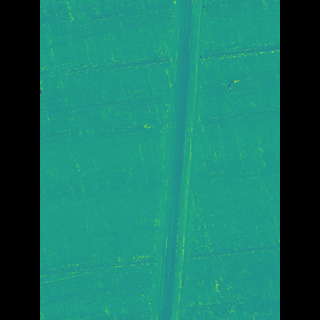Loch: (149, 0, 193, 320)
